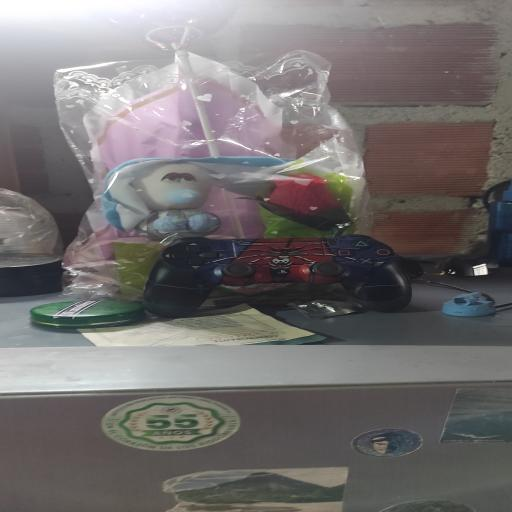ControlPlay4: (143, 235, 411, 317)
